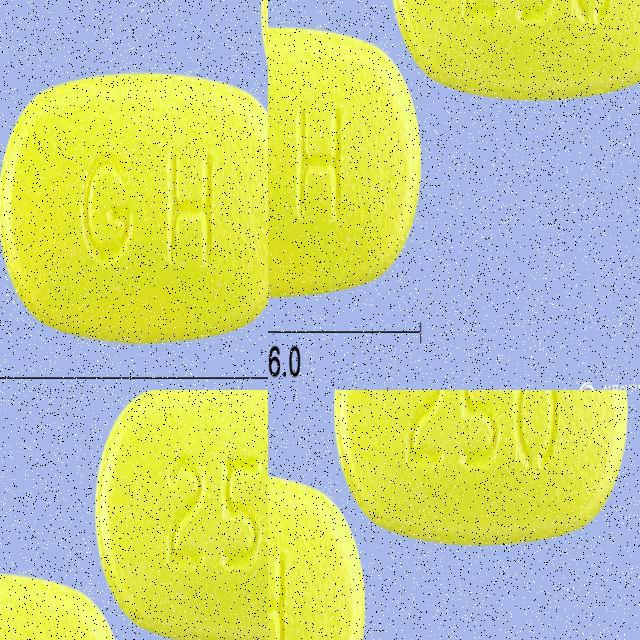Cefick Cap: (35, 203, 268, 390)
Cephamethyl Cap: (268, 69, 475, 301), (346, 0, 640, 61)
Clana: (333, 390, 630, 552), (268, 465, 370, 640)
Crema: (99, 390, 268, 640)
